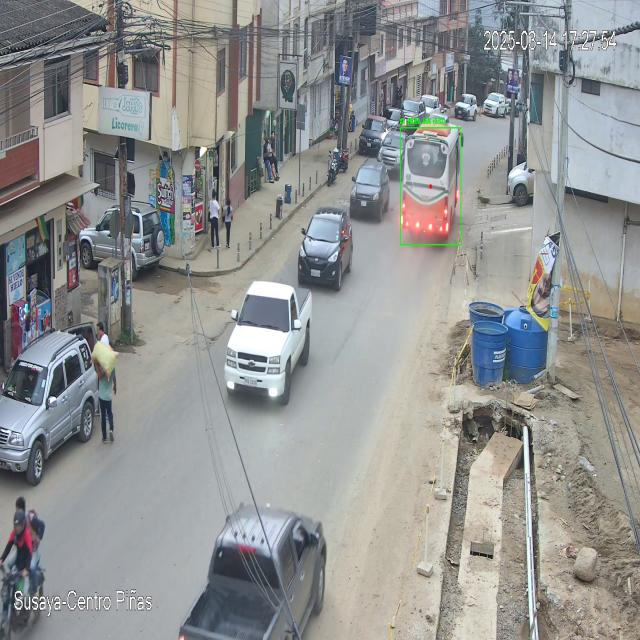BUS: (401, 118, 459, 239)
CMT: (181, 504, 327, 640), (224, 282, 312, 406)
SUV: (0, 334, 96, 483)
